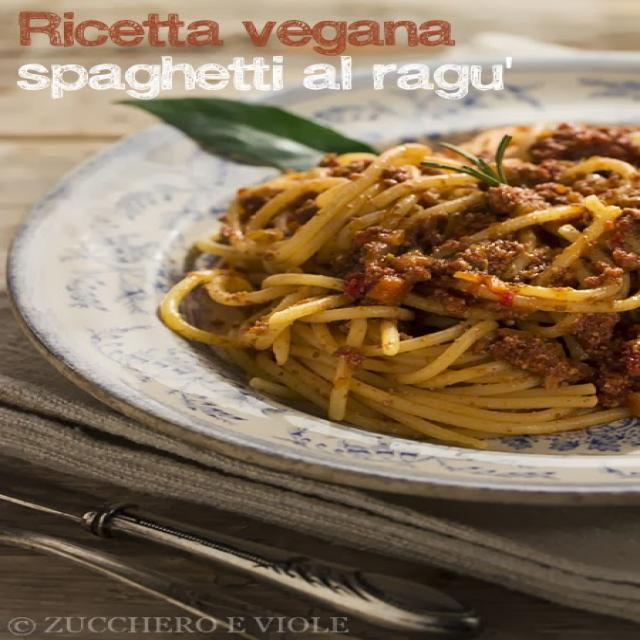Pasta al ragu: (168, 113, 640, 408)
